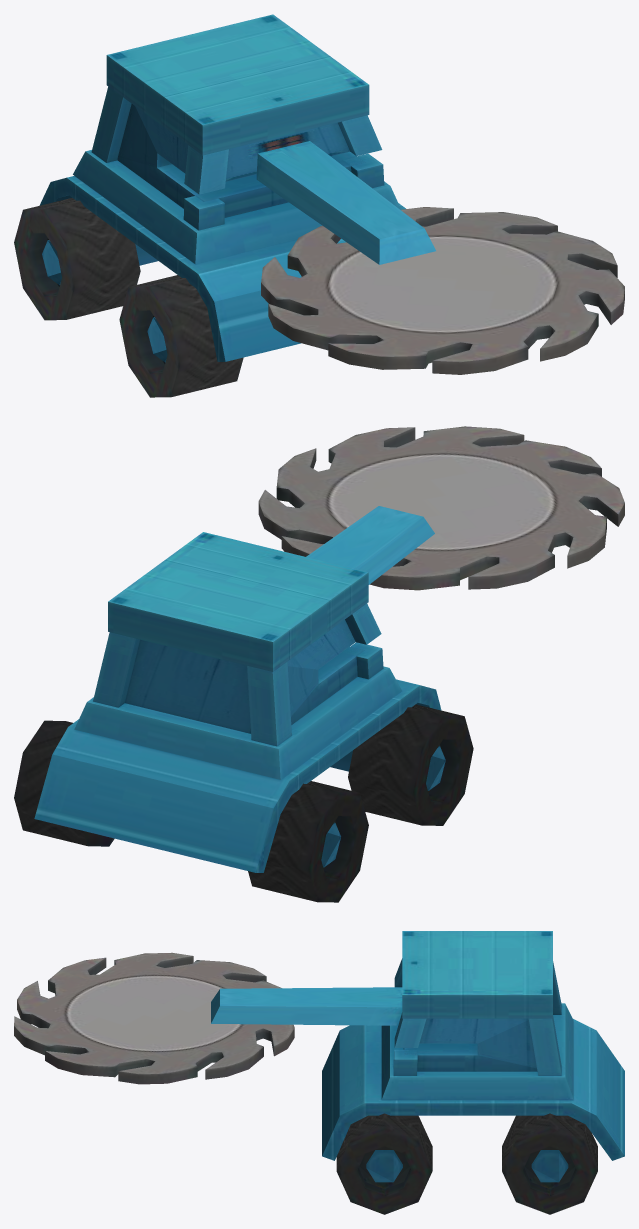
Rendered from FaShuJi.fbx.
3 renders of one model, top to bottom at view 1: azimuth 30°, elevation 25°; view 2: azimuth 150°, elevation 25°; view 3: azimuth 270°, elevation 25°, orthographic. The views are drawn at different scales.
Visible parts, largest first — view 1: FaShuJi_fAsHU_transform1, FaShuJi_fAsHU_transform4, FaShuJi_fAsHU_transform2, FaShuJi_fAsHU_transform3; view 2: FaShuJi_fAsHU_transform1, FaShuJi_fAsHU_transform4, FaShuJi_fAsHU_transform2, FaShuJi_fAsHU_transform3; view 3: FaShuJi_fAsHU_transform1, FaShuJi_fAsHU_transform4, FaShuJi_fAsHU_transform2, FaShuJi_fAsHU_transform3.
Boxes of the visible parts, x1,y1,x2,y2 form: FaShuJi_fAsHU_transform1: (39, 14, 435, 361); FaShuJi_fAsHU_transform4: (261, 207, 624, 374); FaShuJi_fAsHU_transform2: (14, 198, 157, 320); FaShuJi_fAsHU_transform3: (119, 275, 243, 397); FaShuJi_fAsHU_transform1: (34, 506, 441, 872); FaShuJi_fAsHU_transform4: (258, 426, 624, 590); FaShuJi_fAsHU_transform2: (14, 720, 368, 902); FaShuJi_fAsHU_transform3: (330, 704, 473, 825); FaShuJi_fAsHU_transform1: (211, 931, 624, 1160); FaShuJi_fAsHU_transform4: (14, 952, 294, 1084); FaShuJi_fAsHU_transform2: (502, 1113, 597, 1214); FaShuJi_fAsHU_transform3: (336, 1113, 432, 1214).
Bounding box in the file's own units: 159 × 119 × 338.
